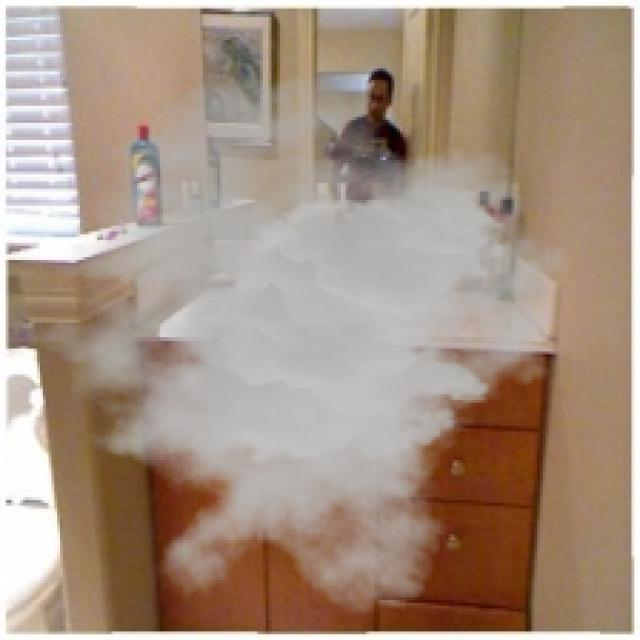smoke: (6, 74, 571, 617)
